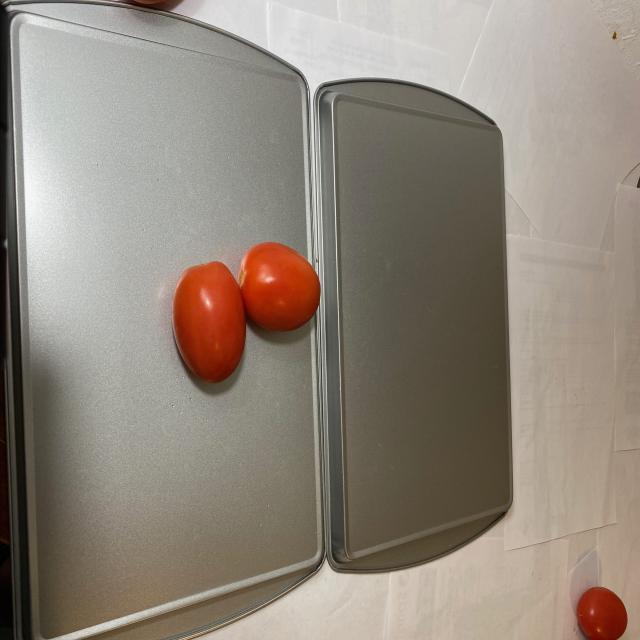tomato: (172, 238, 322, 383), (570, 582, 628, 640)
